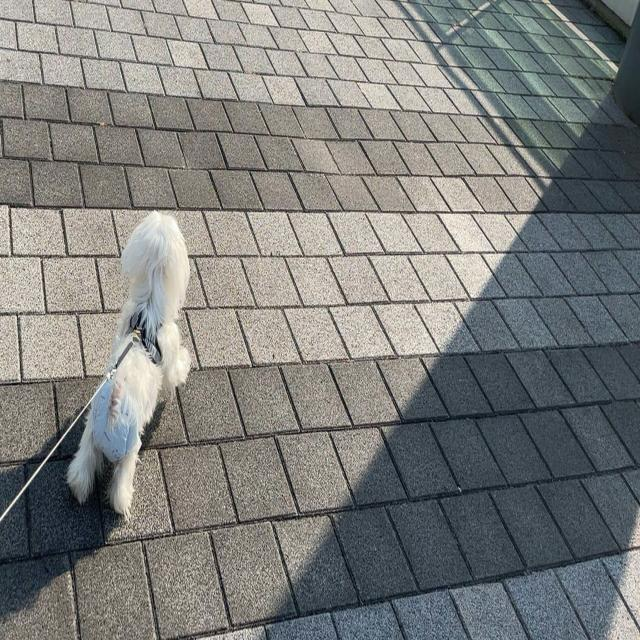Dog: (65, 208, 192, 524)
